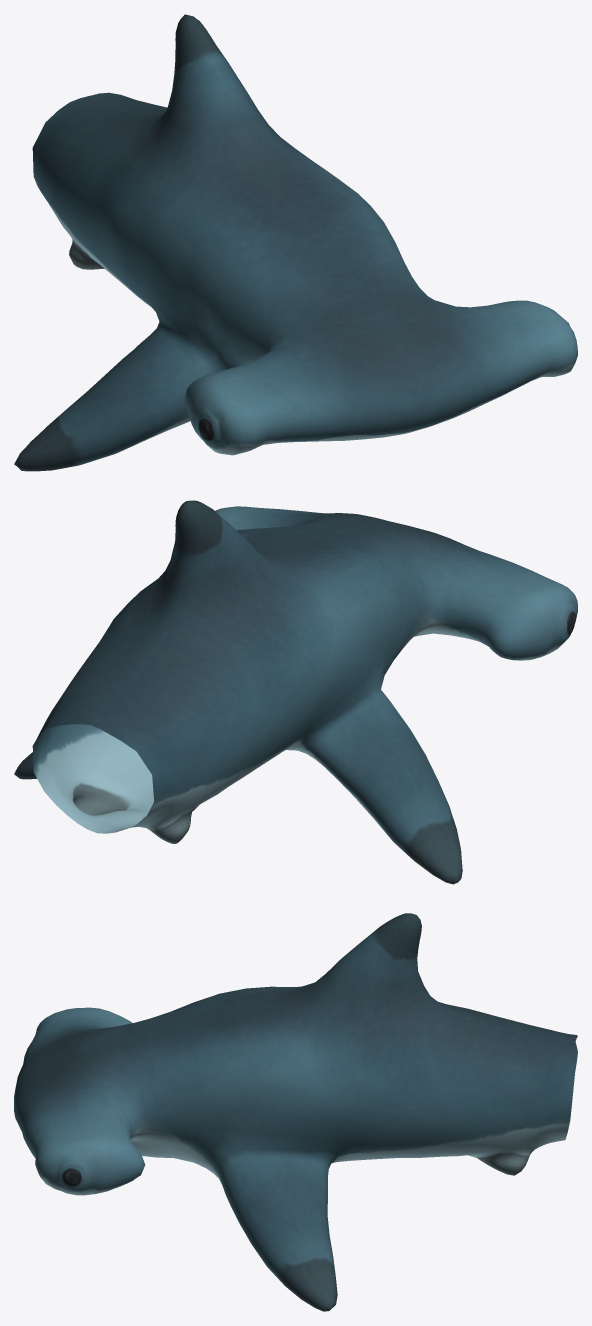
The model's file is CuerpoMartillo.obj.
3 renders of one model, top to bottom at view 1: azimuth 30°, elevation 25°; view 2: azimuth 150°, elevation 25°; view 3: azimuth 270°, elevation 25°, orthographic. The views are drawn at different scales.
Visible parts, largest first — view 1: polySurface1 pelucheTiburon2:_Hammerhead_Shark_v1; view 2: polySurface1 pelucheTiburon2:_Hammerhead_Shark_v1; view 3: polySurface1 pelucheTiburon2:_Hammerhead_Shark_v1.
Part boxes in pixels (x1,y1,x2,y2): polySurface1 pelucheTiburon2:_Hammerhead_Shark_v1: (14,14,577,471); polySurface1 pelucheTiburon2:_Hammerhead_Shark_v1: (14,500,577,884); polySurface1 pelucheTiburon2:_Hammerhead_Shark_v1: (14,913,577,1311).
Size of the model in its own units: 8.03 by 6.32 by 10.47.
Materials: 1 (1 with a texture image).
